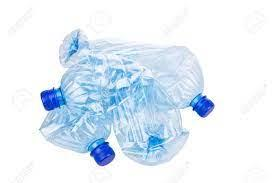plastic: (37, 33, 214, 173)
